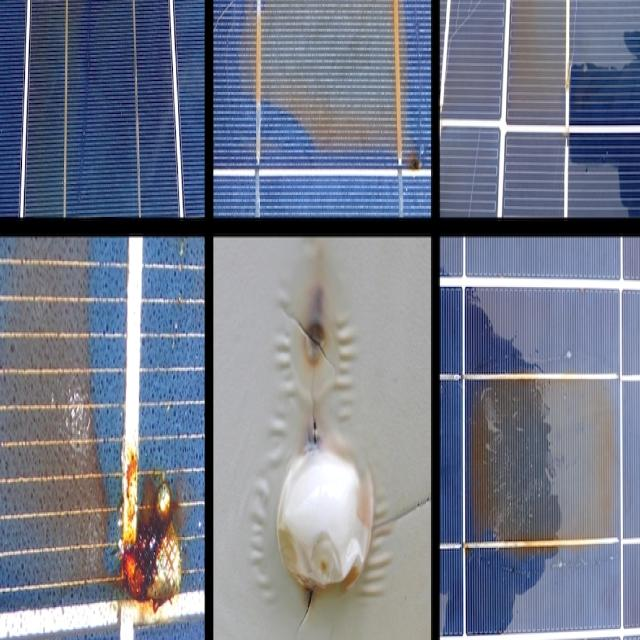shadow: (0, 235, 107, 594), (235, 0, 426, 194), (462, 335, 620, 563), (22, 0, 106, 187), (108, 442, 182, 632), (288, 284, 346, 402)
